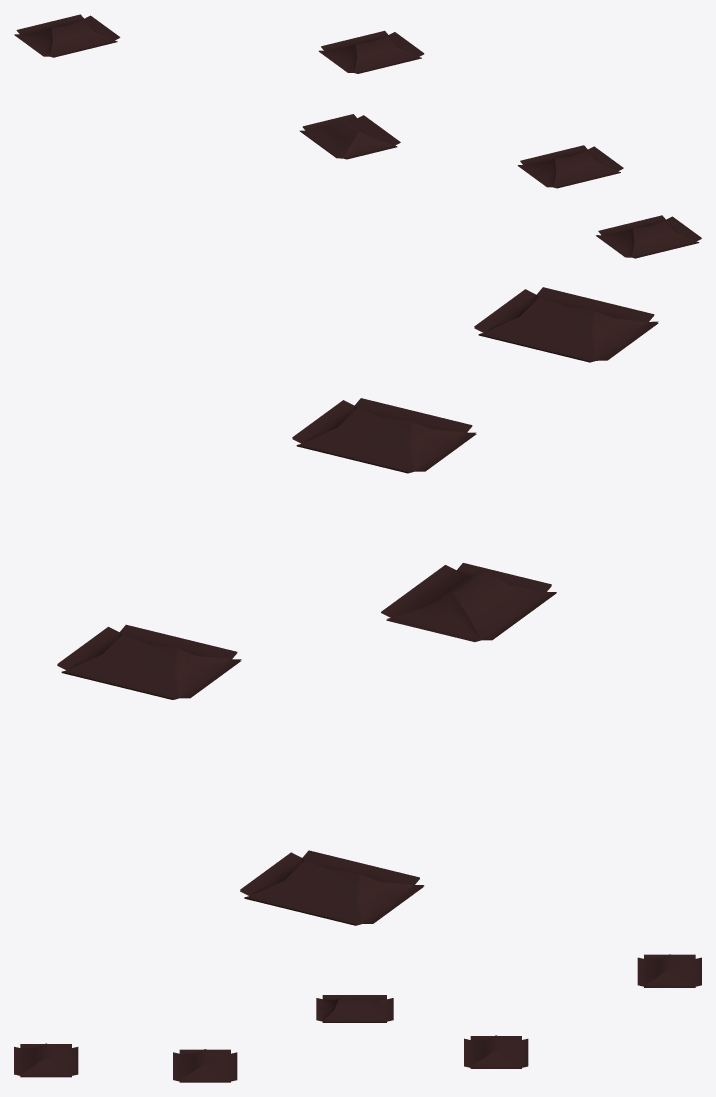
Rendered from object_62_lev1_lev2.glb.
The picture shows the model from 3 angles, top to bottom: view 1: azimuth 30°, elevation 25°; view 2: azimuth 150°, elevation 25°; view 3: azimuth 270°, elevation 25°; orthographic projection. The views are drawn at different scales.
Parts seen in each view (by area): view 1: object_62_lev1_lev2; view 2: object_62_lev1_lev2; view 3: object_62_lev1_lev2.
Part boxes in pixels (x1,y1,x2,y2): object_62_lev1_lev2: [14, 14, 701, 258]; object_62_lev1_lev2: [57, 287, 658, 925]; object_62_lev1_lev2: [14, 954, 701, 1082].
Size of the model in its own units: 30.41 by 1.93 by 66.36.
